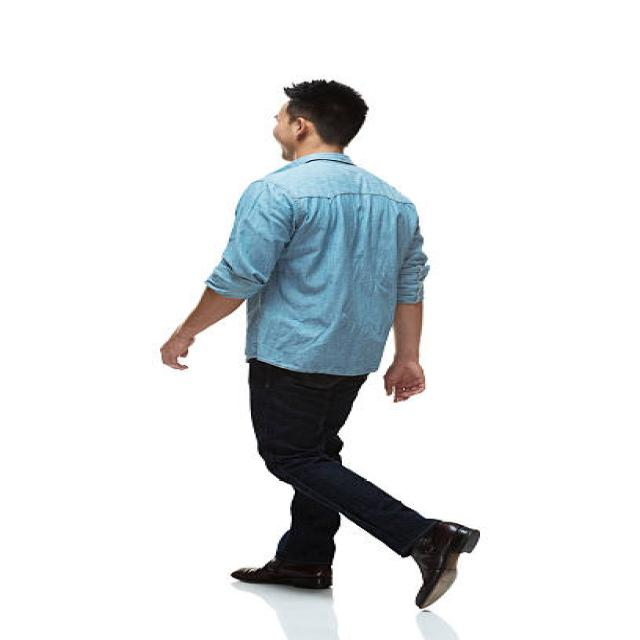Person: (161, 81, 479, 608)
